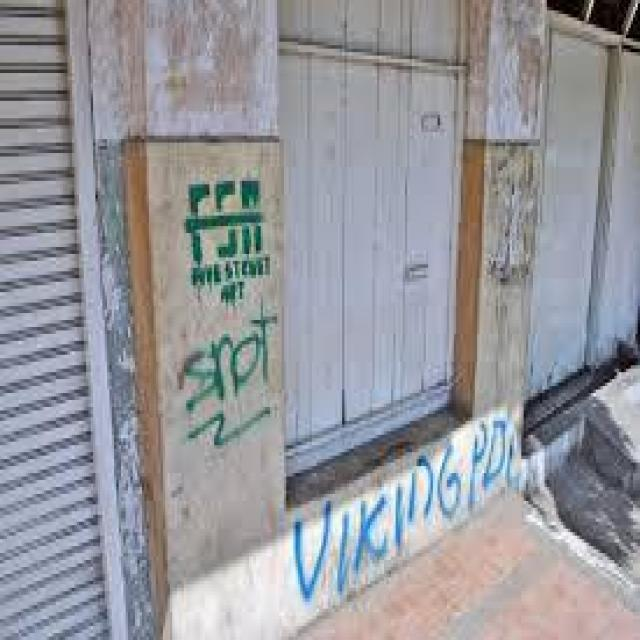nonspitting: (290, 420, 510, 600), (184, 303, 278, 447), (186, 178, 271, 304)
